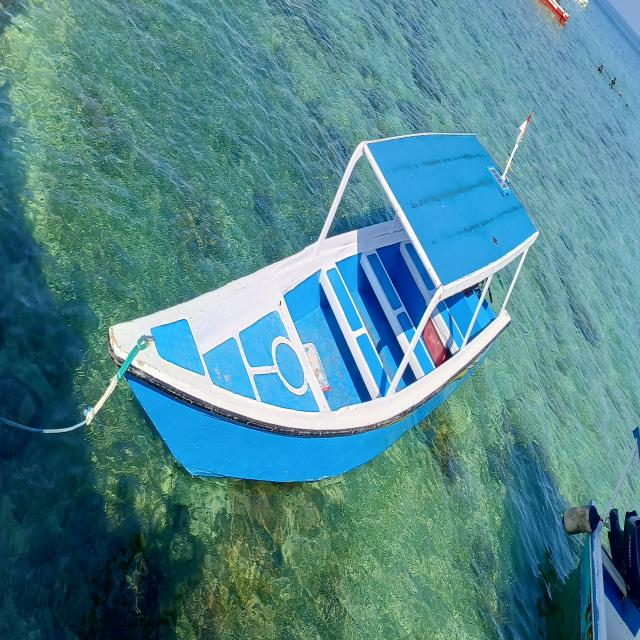Fishing Boat: (73, 96, 593, 517)
